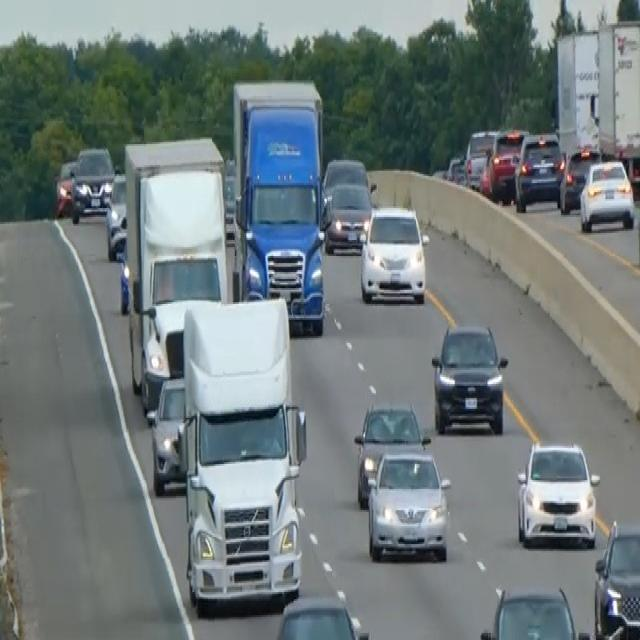car: (366, 446, 451, 562), (515, 438, 600, 548), (430, 320, 508, 436), (353, 400, 427, 507), (359, 203, 428, 304), (479, 583, 588, 638), (593, 518, 639, 638), (149, 374, 187, 494), (273, 592, 370, 638), (578, 156, 635, 233), (514, 130, 565, 212), (323, 180, 373, 254), (69, 144, 115, 222), (482, 126, 527, 201), (558, 144, 601, 213), (321, 155, 369, 206), (463, 126, 497, 188), (104, 170, 127, 260), (54, 158, 77, 217), (444, 153, 465, 183)
lorry: (178, 294, 308, 614), (230, 76, 328, 334)
